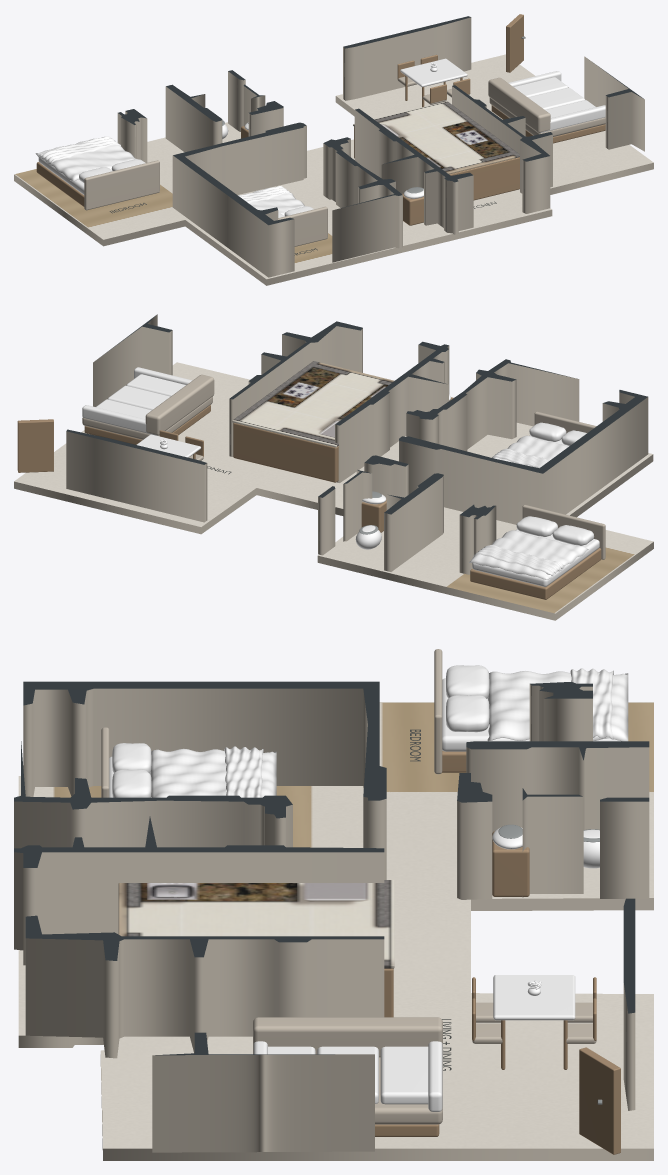
The model's file is opal-group-unit-06.glb.
3 views of the same model, one above another, from view 1: azimuth 30°, elevation 25°; view 2: azimuth 150°, elevation 25°; view 3: azimuth 270°, elevation 25° (orthographic). The views are drawn at different scales.
Visible parts, largest first — view 1: Partition walls, Apartment floor, Stone worktop, Upholstered headboard.001, Kitchen cabinets, Sofa back, Draped bed linen.002, Upholstered headboard, Marble dining top, Open oak door, Draped bed linen.003, Padded armrest (+9 smaller); view 2: Partition walls, Apartment floor, Stone worktop, Kitchen cabinets, Draped bed linen.002, Sofa back, Open oak door, Walnut upholstered base.001, Piped mattress.001, Upholstered headboard.001, Draped bed linen.003, Padded armrest.001 (+13 smaller); view 3: Partition walls, Apartment floor, Stone worktop, Sofa back, Draped bed linen.002, Draped bed linen, Open oak door, Marble dining top, Seat cushion.002, Vanity cabinet.001, Draped bed linen.001, Draped bed linen.003 (+10 smaller).
Part boxes in pixels (x1,y1,x2,y2): Partition walls: (117,16,644,277); Apartment floor: (14,54,653,285); Stone worktop: (353,101,519,174); Upholstered headboard.001: (84,160,159,210); Kitchen cabinets: (354,127,519,200); Sofa back: (488,77,550,132); Draped bed linen.002: (35,136,137,181); Upholstered headboard: (278,206,327,246); Marble dining top: (400,58,467,87); Open oak door: (506,14,523,72); Draped bed linen.003: (39,136,120,164); Padded armrest: (539,105,605,133); Partition walls: (66,314,648,574); Apartment floor: (14,362,653,620); Stone worktop: (232,361,394,447); Kitchen cabinets: (233,423,338,482); Draped bed linen.002: (469,530,588,579); Sofa back: (145,374,214,435); Open oak door: (17,419,53,472); Walnut upholstered base.001: (470,548,601,599); Piped mattress.001: (472,529,599,586); Upholstered headboard.001: (522,505,605,559); Draped bed linen.003: (473,545,564,575); Padded armrest.001: (82,405,157,435); Partition walls: (14,681,649,1152); Apartment floor: (18,702,653,1160); Stone worktop: (118,880,394,968); Sofa back: (253,1017,442,1057); Draped bed linen.002: (487,671,628,741); Draped bed linen: (150,748,276,797); Open oak door: (579,1047,620,1154); Marble dining top: (493,975,575,1020); Seat cushion.002: (380,1046,428,1104); Vanity cabinet.001: (492,831,529,896); Draped bed linen.001: (224,746,263,797); Draped bed linen.003: (570,668,613,739).
Bounding box in the file's own units: 12.79 × 1.44 × 7.63.
Materials: 12 (2 with a texture image).
